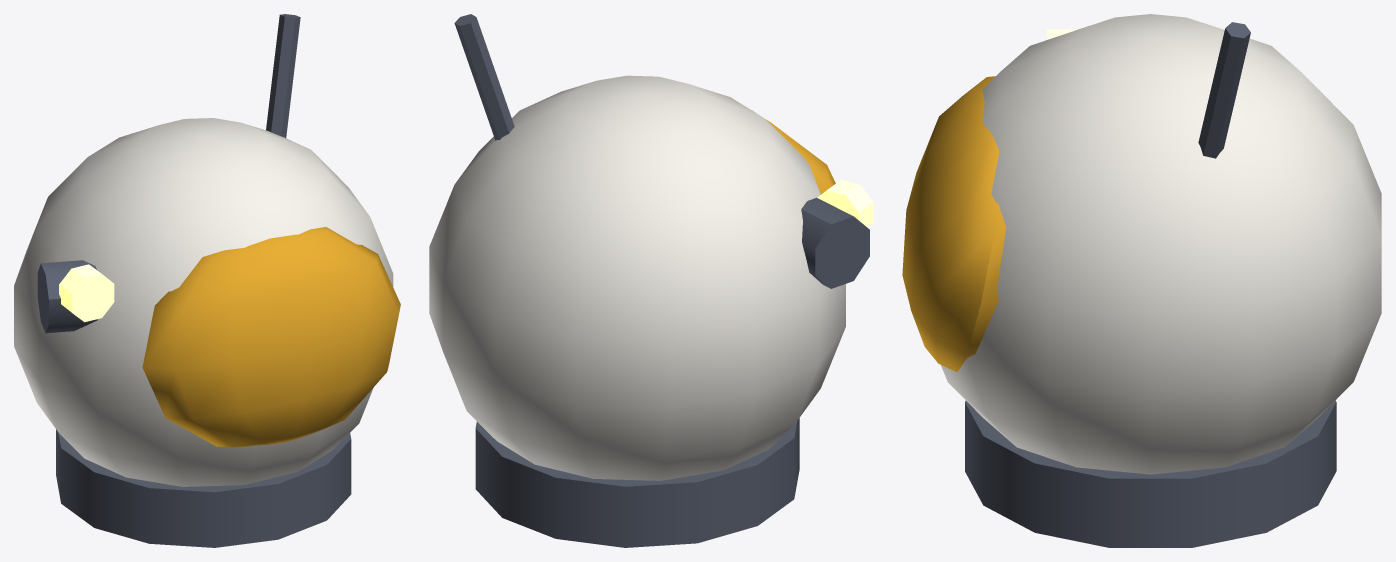
File: SpaceHelmet.glb
The picture shows the model from 3 angles, left to right: view 1: azimuth 30°, elevation 25°; view 2: azimuth 150°, elevation 25°; view 3: azimuth 270°, elevation 25°; orthographic projection. The views are drawn at different scales.
Parts seen in each view (by area): view 1: Helmet shell, Helmet visor, Helmet trim, Helmet lamp; view 2: Helmet shell, Helmet trim, Helmet lamp, Helmet visor; view 3: Helmet shell, Helmet trim, Helmet visor.
Part boxes in pixels (x1,y1,x2,y2): Helmet shell: [14, 118, 393, 486]; Helmet visor: [142, 227, 400, 447]; Helmet trim: [37, 14, 351, 547]; Helmet lamp: [59, 264, 114, 322]; Helmet shell: [429, 75, 845, 480]; Helmet trim: [454, 14, 869, 547]; Helmet lamp: [817, 180, 873, 226]; Helmet visor: [752, 110, 835, 194]; Helmet shell: [941, 14, 1381, 474]; Helmet trim: [965, 22, 1336, 547]; Helmet visor: [902, 76, 1006, 372].
Bounding box in the file's own units: 0.4575 × 0.5235 × 0.4384.
